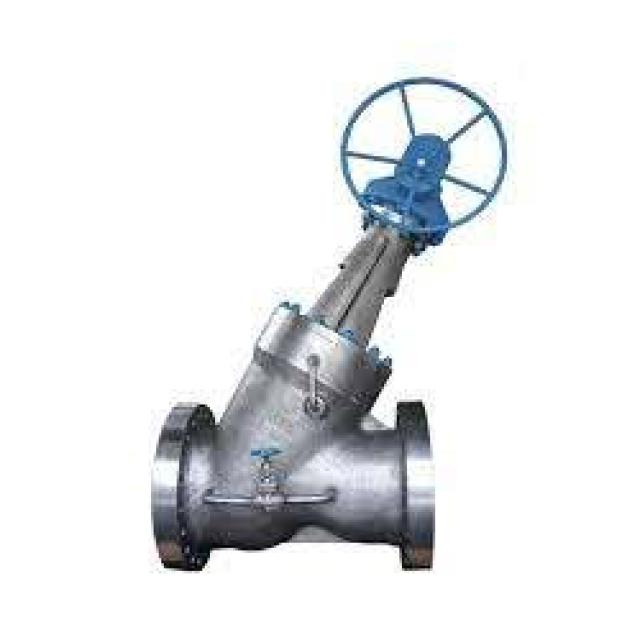Wheel Handle Valve Threaded: (329, 69, 523, 241)
